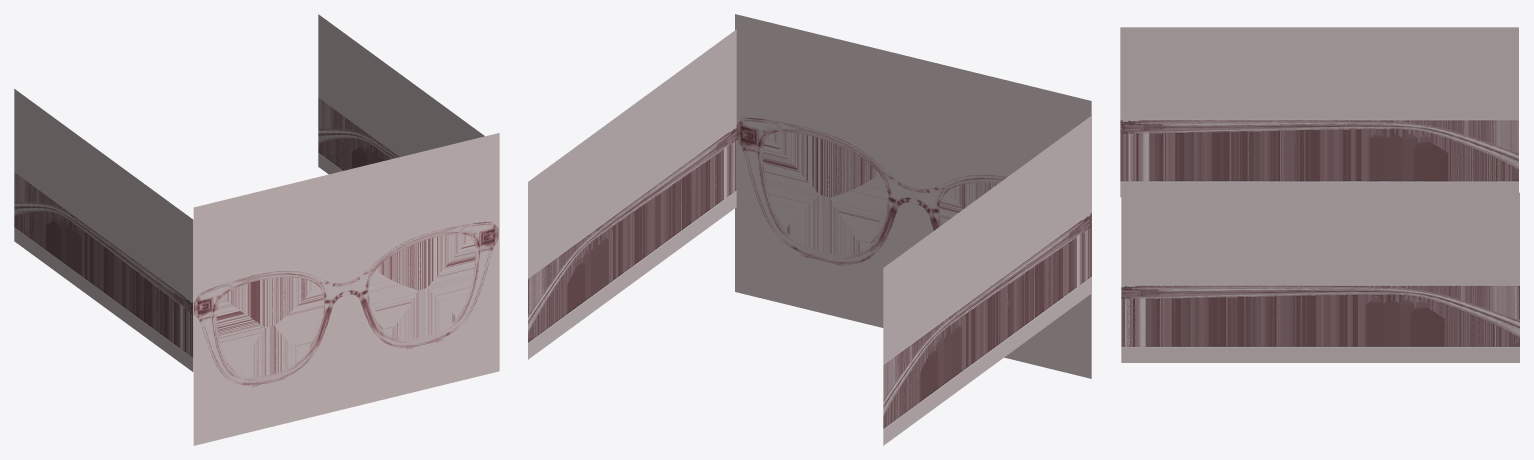
Rendered from broadway-flex-22.glb.
The picture shows the model from 3 angles, left to right: view 1: azimuth 30°, elevation 25°; view 2: azimuth 150°, elevation 25°; view 3: azimuth 270°, elevation 25°; orthographic projection. The views are drawn at different scales.
Visible parts, largest first — view 1: Front, Right, Left; view 2: Front, Left, Right; view 3: Left, Right.
Boxes of the visible parts, x1,y1,x2,y2 form: Front: (193, 133, 499, 445); Right: (14, 89, 193, 371); Left: (318, 14, 484, 174); Front: (735, 14, 1091, 378); Left: (528, 29, 736, 359); Right: (883, 115, 1091, 445); Left: (1121, 192, 1519, 362); Right: (1120, 27, 1518, 197).
Bounding box in the file's own units: 147 × 109 × 149.
Materials: 4 (4 with a texture image).
